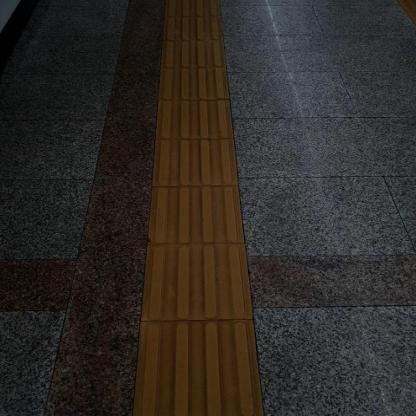podotacti: (135, 4, 263, 412)
